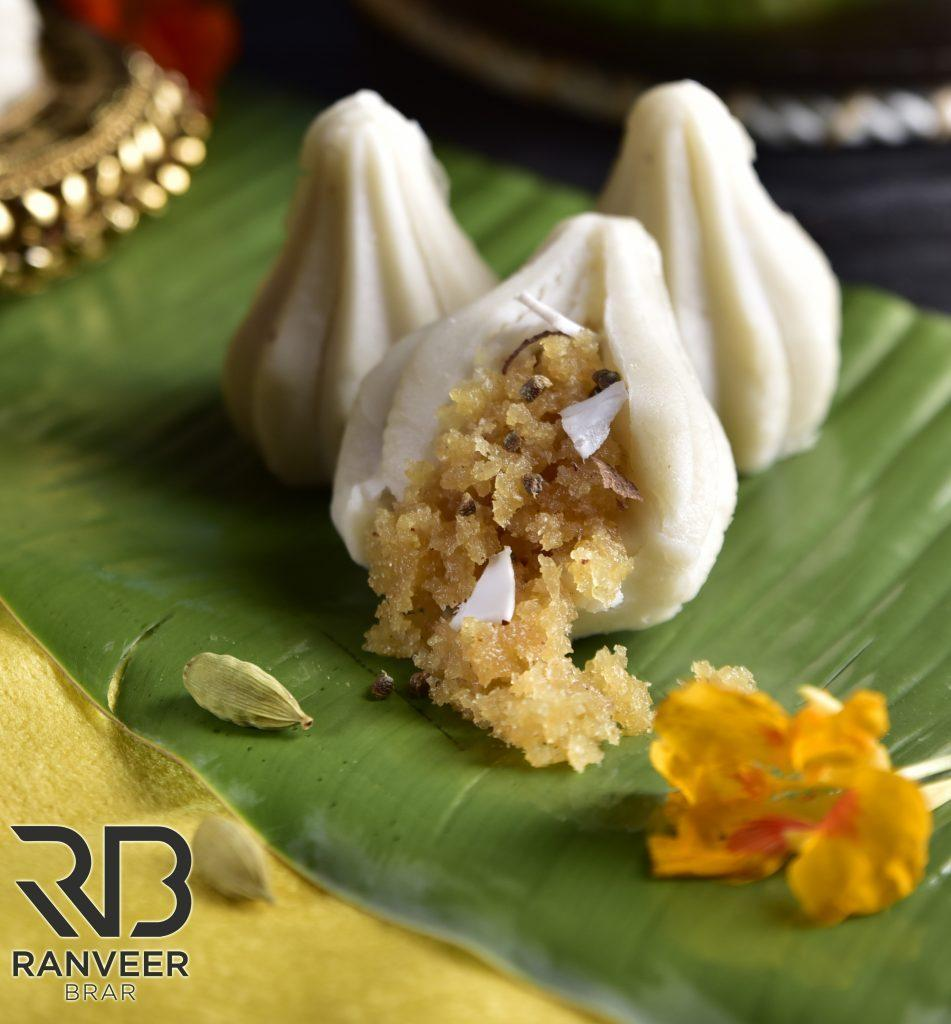modak: (304, 124, 664, 732)
